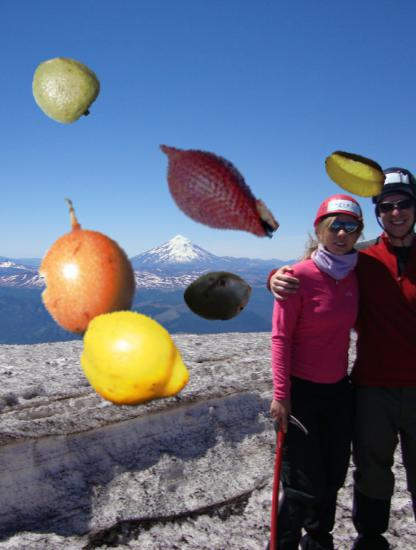Carambula: (323, 142, 386, 205)
Granadilla: (13, 196, 159, 342)
Limes: (30, 52, 101, 123)
Plum: (183, 261, 254, 332)
Quince: (77, 303, 194, 420)
Salak: (140, 119, 287, 266)
